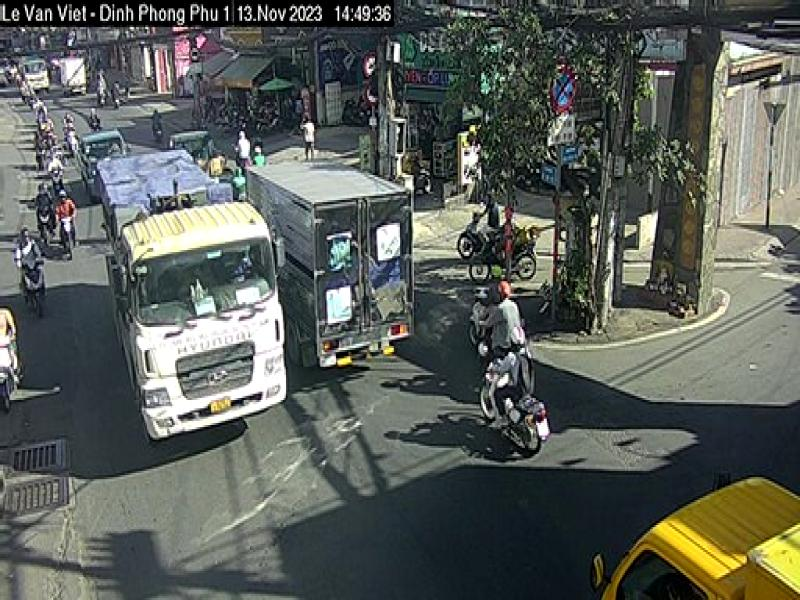truck: (113, 198, 289, 446)
